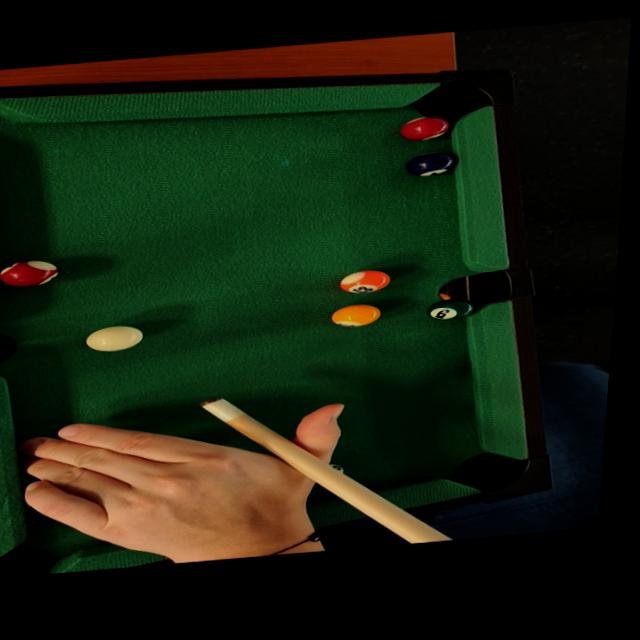cue ball: (75, 320, 147, 355)
other: (0, 257, 68, 293), (402, 146, 466, 181), (335, 265, 398, 298), (395, 112, 454, 147), (327, 300, 385, 331), (424, 296, 475, 323)
